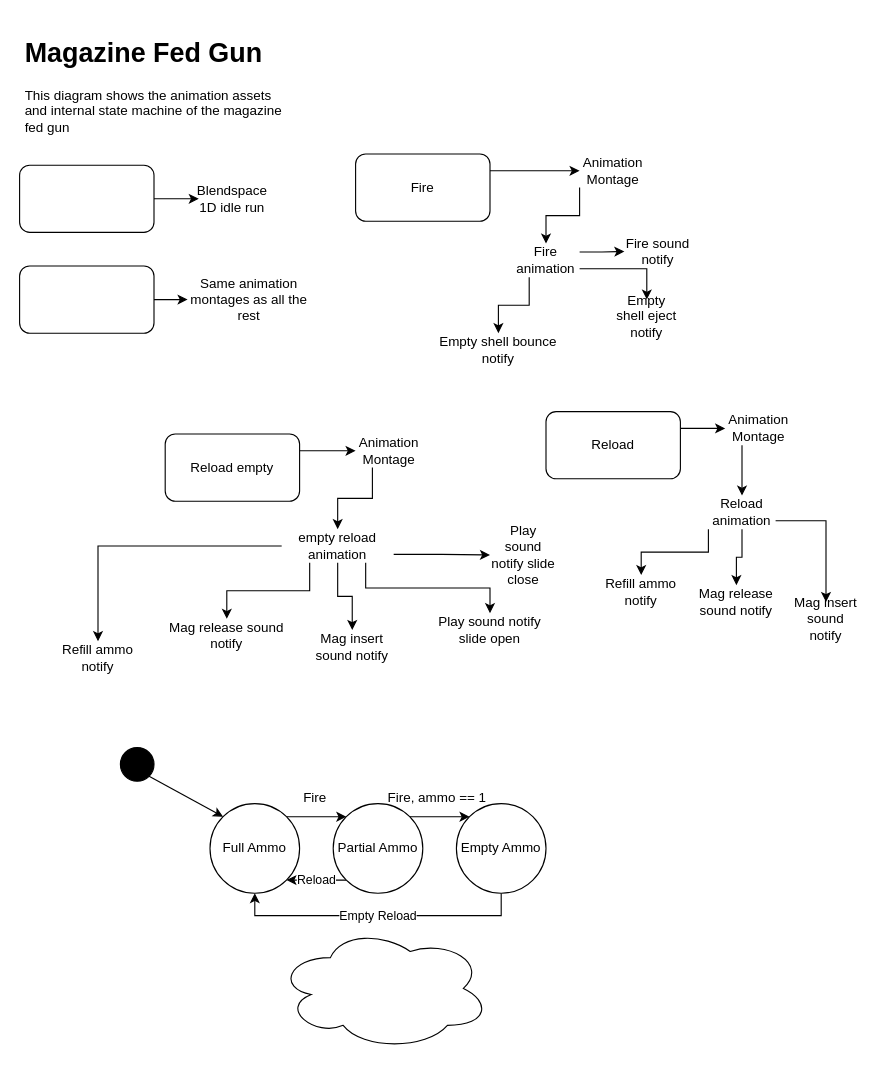
This 879x1070 diagram has some shape labels left out. The centre of each missing label's shape, as x and y in pixels:
"Choose reload animation montage Based off Weapon state" goes at (x=383, y=988).
"Movement" goes at (x=86, y=198).
"Raise/Lower" goes at (x=86, y=299).
